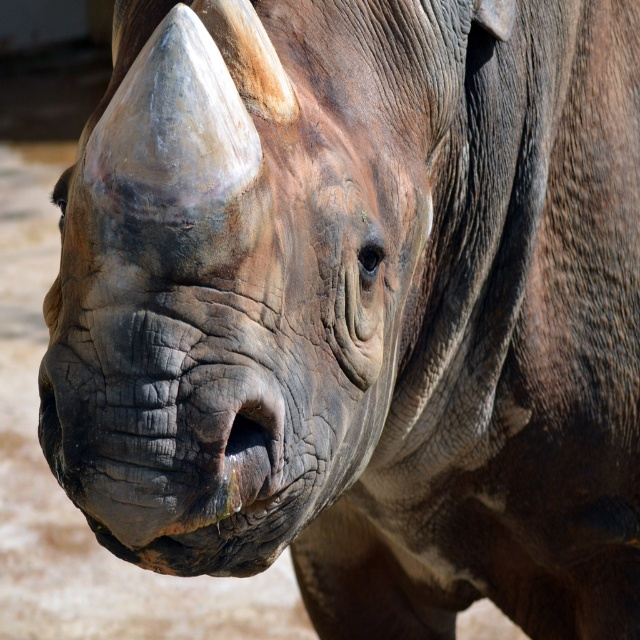Rhinoceros: (33, 0, 640, 639)
